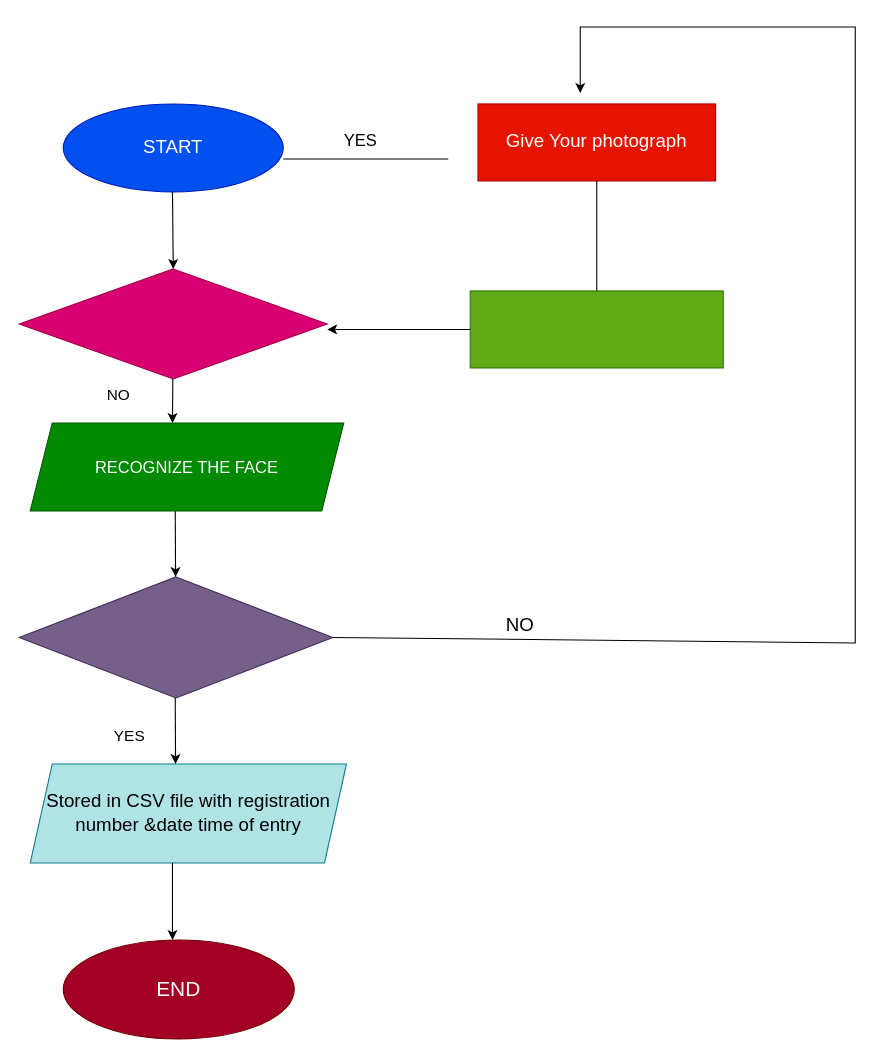
Image size: 883x1058. Some labels were removed from this diagram. The shapes that lost their labels are listed below. From the top down, each one's box as (x1, y1, x2, y2) in pixels, then its label:
(18, 268, 327, 379): NEW USER?
(469, 290, 723, 368): Save the face data in folder on your name
(18, 576, 333, 698): Face recognized
